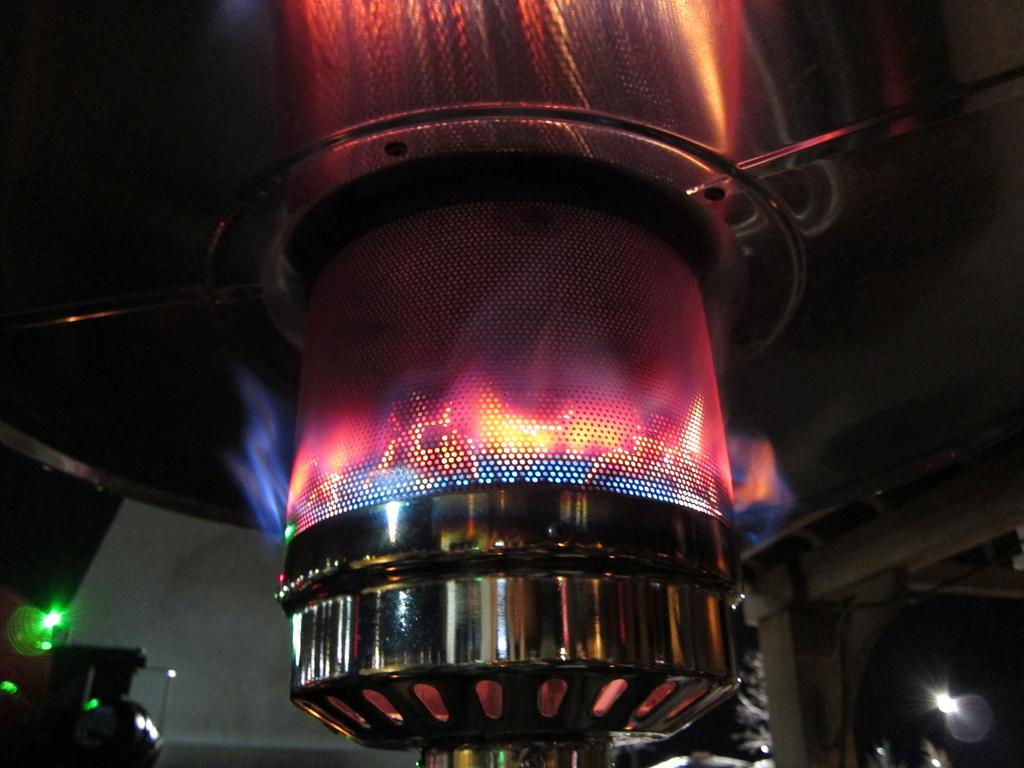fire: (260, 386, 768, 544)
